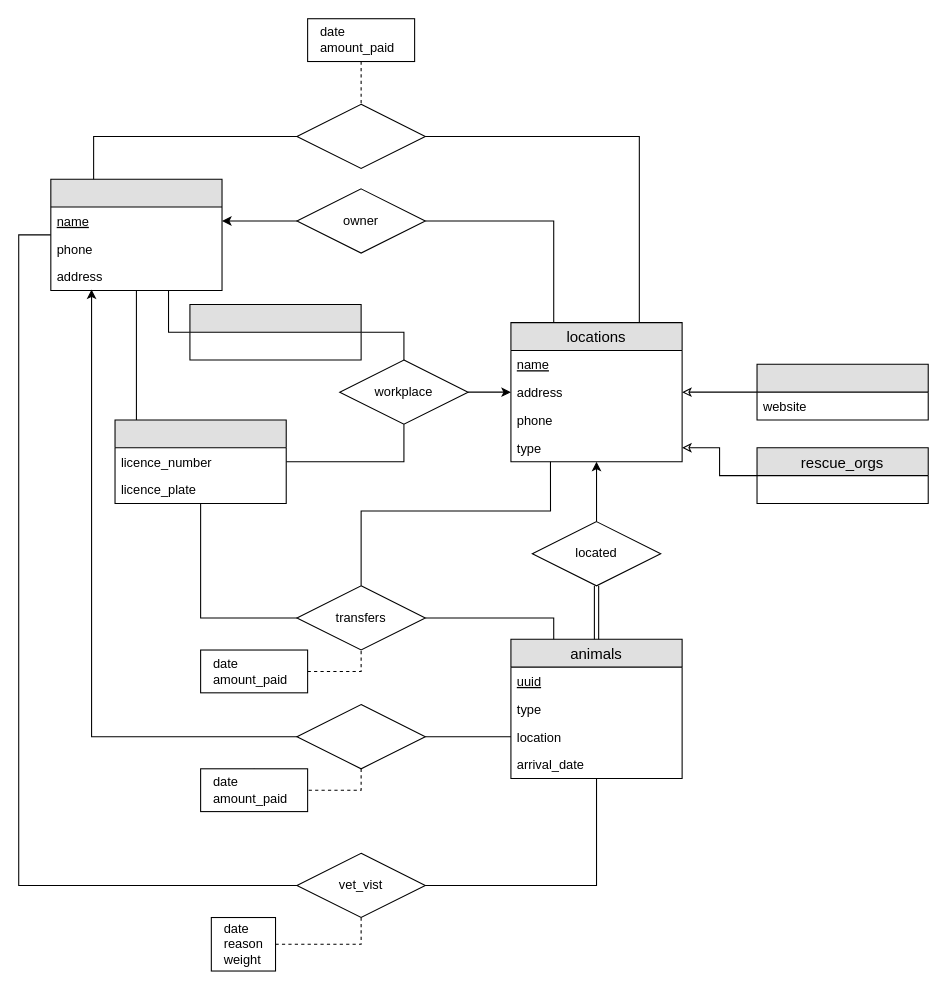
Some shapes in this 947 by 990 pixel diagram are drawn without their labels. Here are the shapes that lost their labels. From the top down, the box of each, then its label:
(296, 103, 425, 169): donation
(50, 178, 222, 291): people
(189, 303, 361, 360): employees
(756, 363, 928, 420): shelters
(114, 419, 286, 503): drivers
(296, 704, 425, 769): adopted
